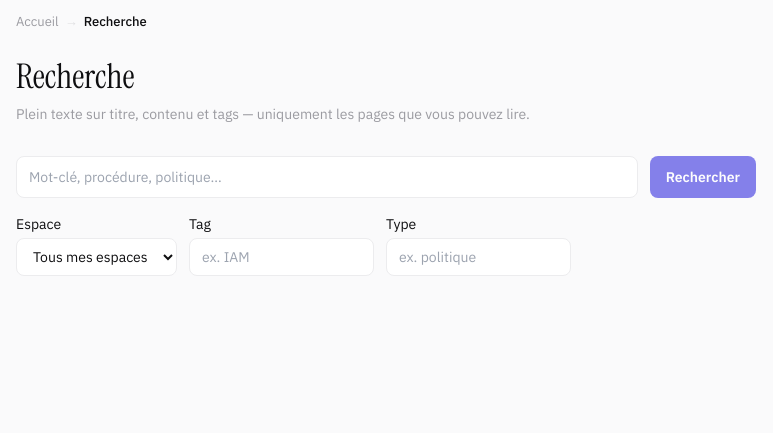
Scenario: SearchPage › soumet une requête et affiche titre + extrait
Type "rotation" into the field named "requête". click: (327,177)
box: [16,156,638,198]
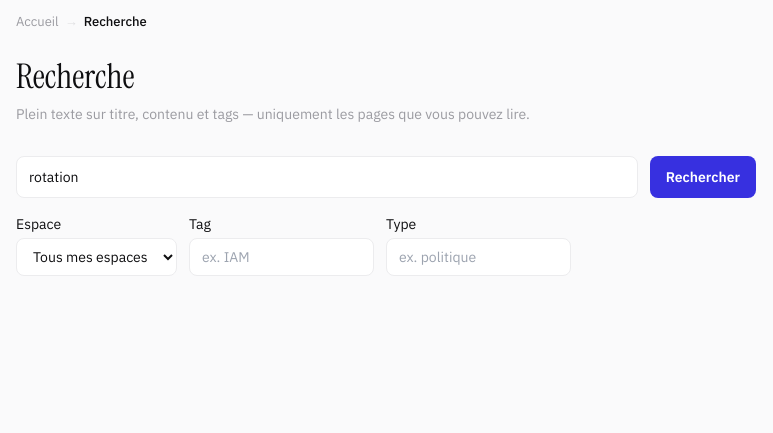
Click the button "Rechercher". click: (703,177)
box: [650,156,756,198]
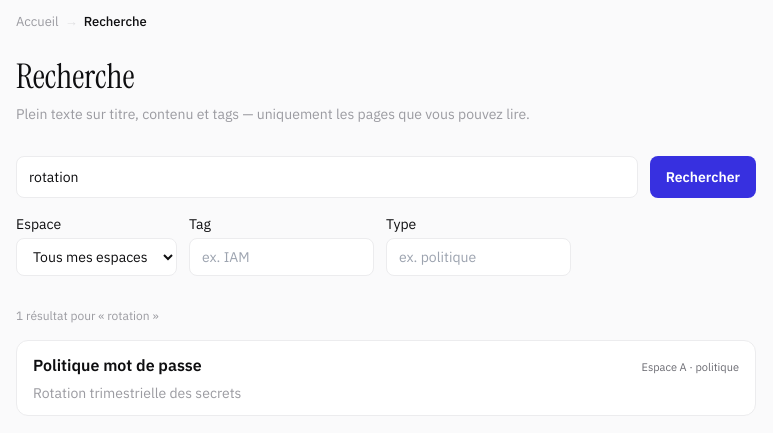
expect the text "Politique mot de passe" is shown: met, box [33,353,202,377]
expect the text "Rotation trimestrielle des secrets" is shown: met, box [33,384,241,402]
